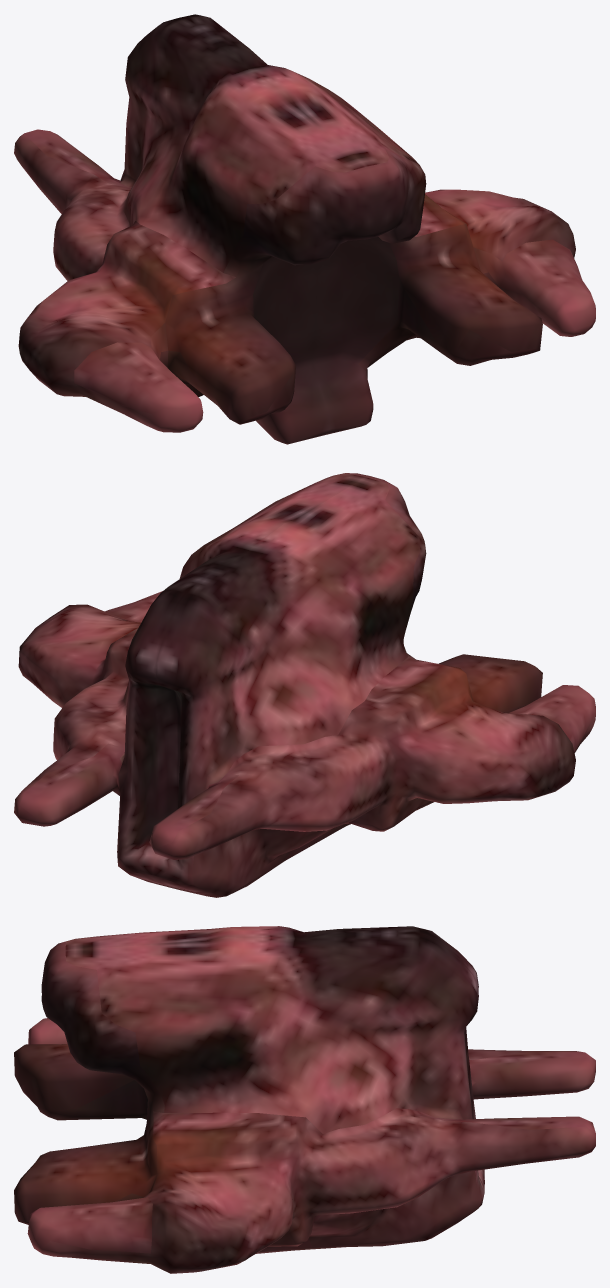
The model's file is placeholder_solrath.glb.
The picture shows the model from 3 angles, top to bottom: view 1: azimuth 30°, elevation 25°; view 2: azimuth 150°, elevation 25°; view 3: azimuth 270°, elevation 25°; orthographic projection.
Visible parts, largest first — view 1: placeholder_solrath; view 2: placeholder_solrath; view 3: placeholder_solrath.
Boxes of the visible parts, bbox=[...] form: placeholder_solrath: bbox=[14, 14, 595, 444]; placeholder_solrath: bbox=[14, 473, 595, 897]; placeholder_solrath: bbox=[14, 926, 595, 1273].
Size of the model in its own units: 0.0762 by 0.0437 by 0.0739.
Materials: 1 (1 with a texture image).
